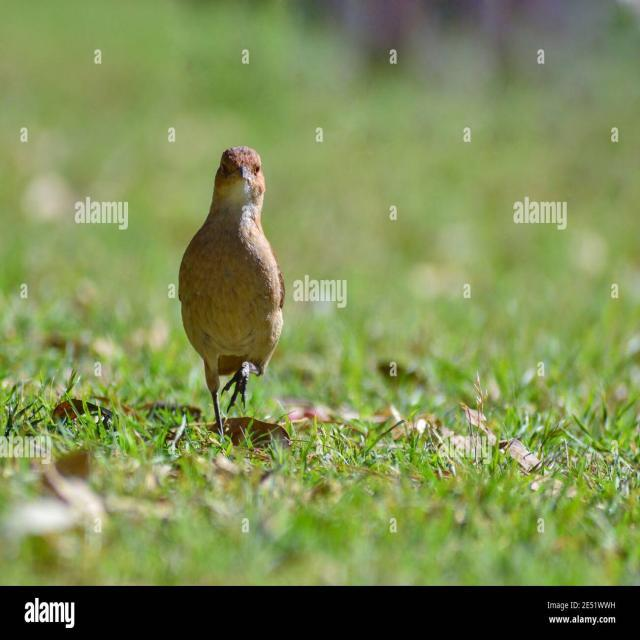bird: (168, 141, 298, 450)
